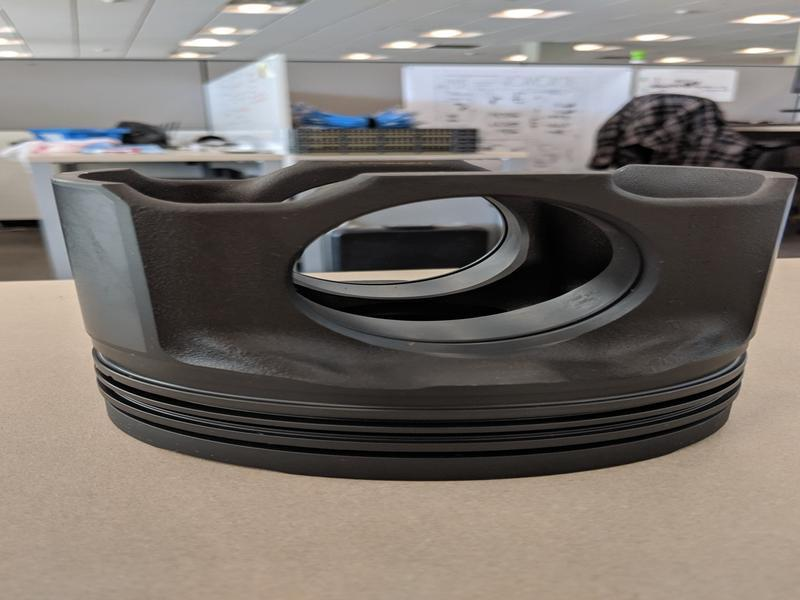piston: (48, 157, 800, 484)
